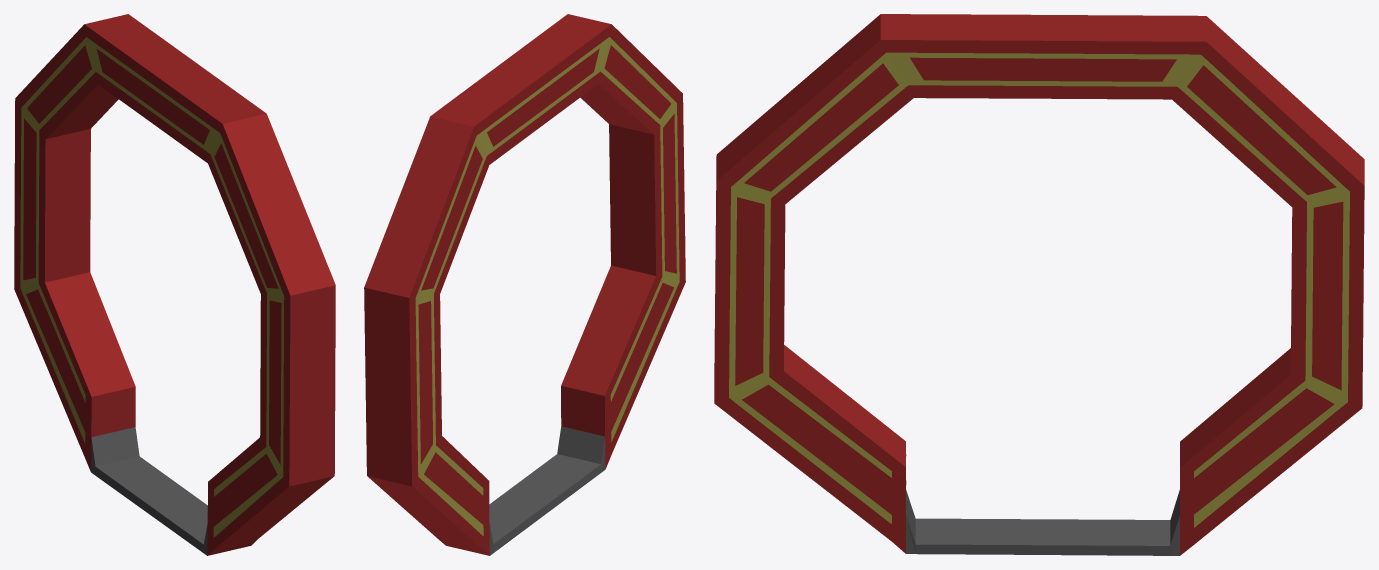
File: darkness_object_gate (fixed).FBX
3 renders of one model, left to right at view 1: azimuth 30°, elevation 25°; view 2: azimuth 150°, elevation 25°; view 3: azimuth 270°, elevation 25°, orthographic. The views are drawn at different scales.
Visible parts, largest first — view 1: Torus004; view 2: Torus004; view 3: Torus004.
Part boxes in pixels (<box>): Torus004: <box>14,14,335,555</box>; Torus004: <box>364,14,685,555</box>; Torus004: <box>714,14,1364,555</box>.
Size of the model in its own units: 2.34 by 20.25 by 22.98.
